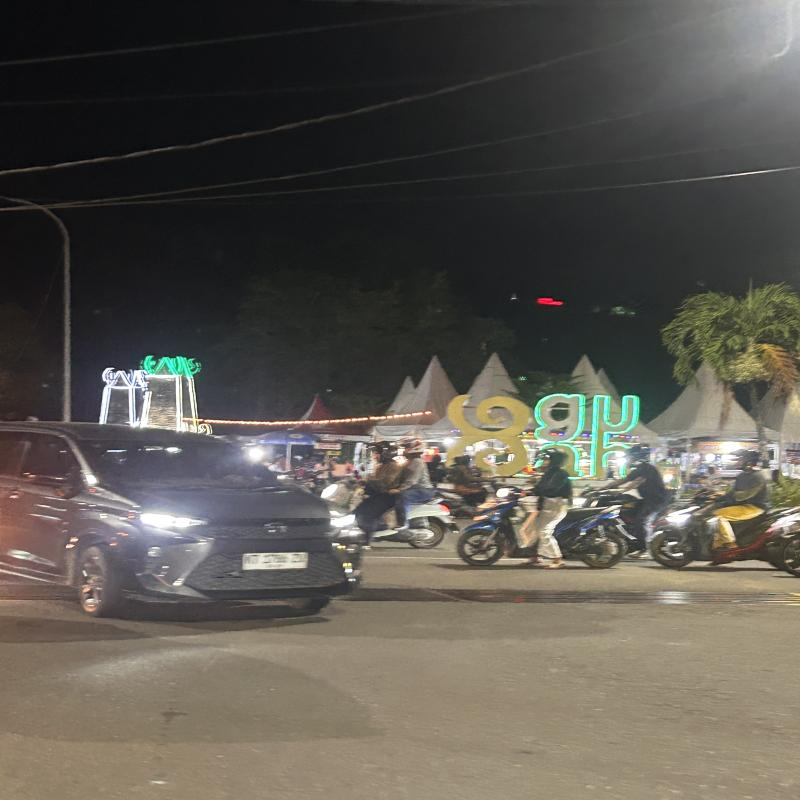license plate on a car: (243, 554, 315, 569)
